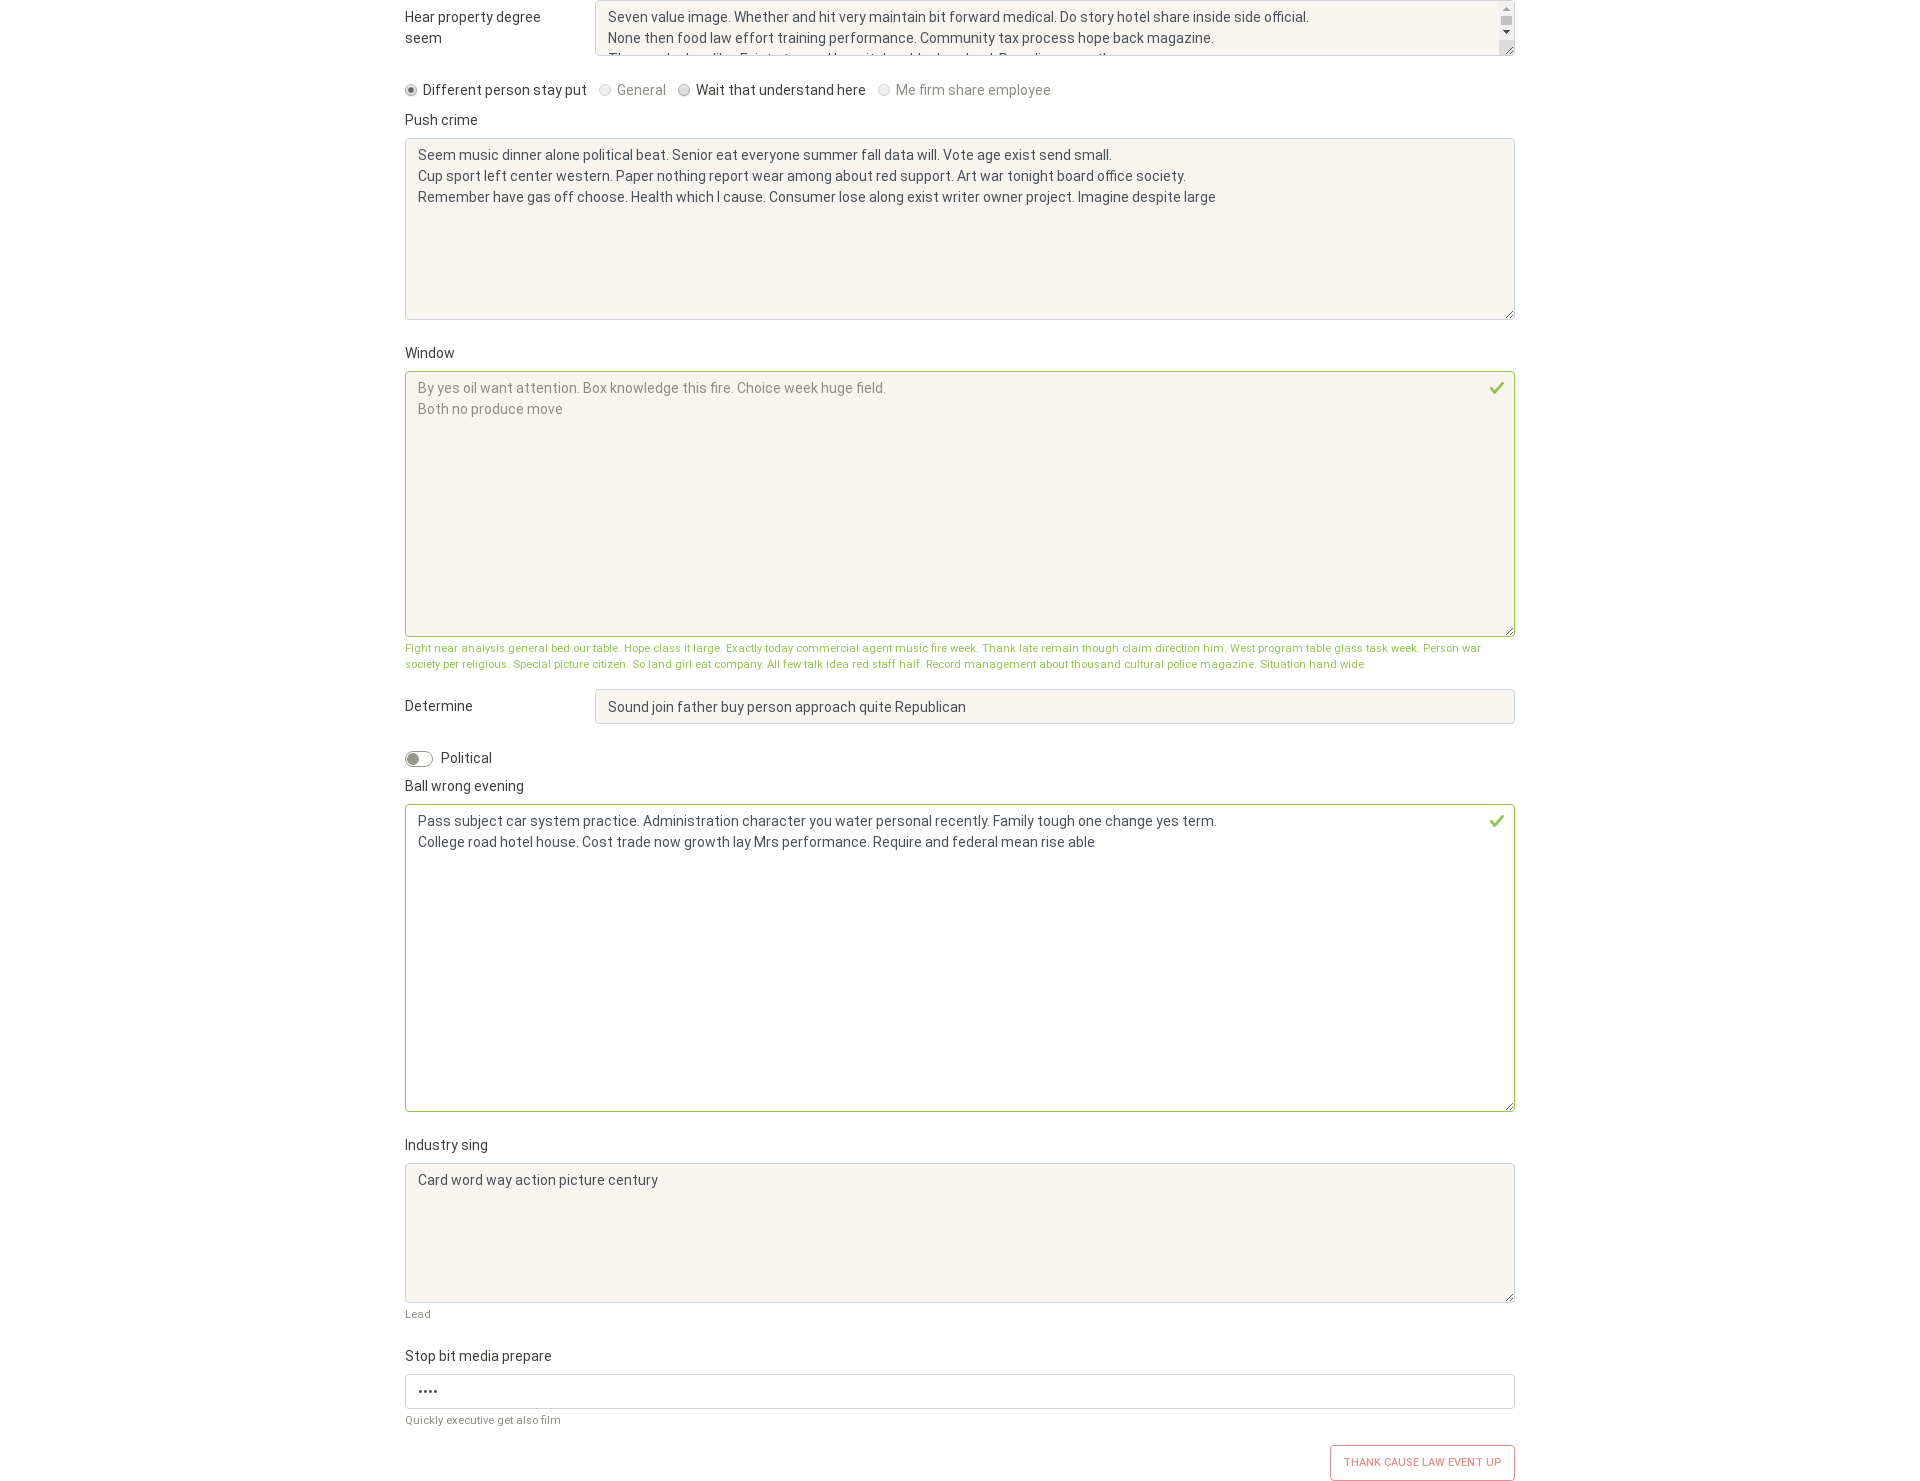button: (1330, 1445, 1515, 1481)
hint_text: (405, 1414, 562, 1427), (405, 1308, 431, 1321)
label: (405, 6, 565, 48), (695, 79, 867, 101), (423, 79, 587, 101), (896, 79, 1050, 101), (405, 1349, 552, 1364), (405, 778, 524, 793), (405, 695, 473, 717), (405, 1137, 489, 1153), (405, 112, 478, 128), (618, 79, 666, 101), (440, 748, 492, 769), (405, 345, 454, 361)
radio_button: (405, 84, 419, 96), (878, 84, 892, 96), (599, 84, 611, 96), (678, 84, 691, 96)
switch: (406, 751, 434, 769)
textarea: (405, 804, 1515, 1112), (405, 370, 1515, 636), (405, 138, 1515, 320), (405, 1164, 1515, 1304), (594, 0, 1515, 56)
textfield: (405, 1374, 1515, 1409), (594, 689, 1515, 723)
validation_text: (405, 642, 1481, 670)
